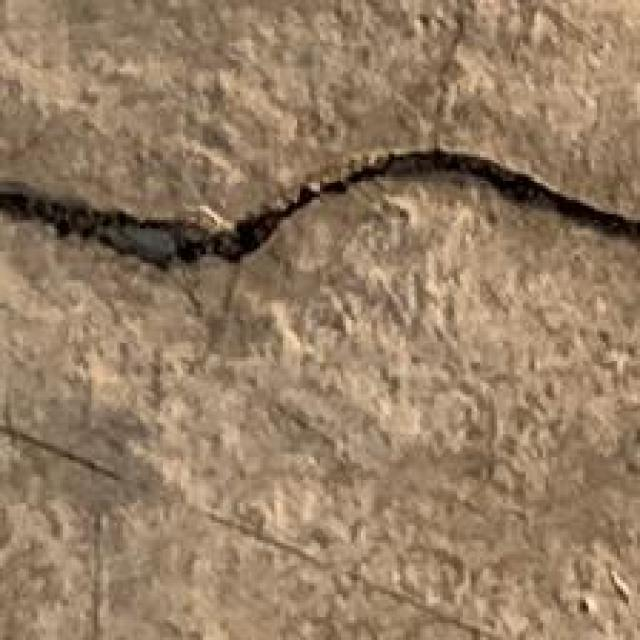Crack: (3, 144, 640, 333)
